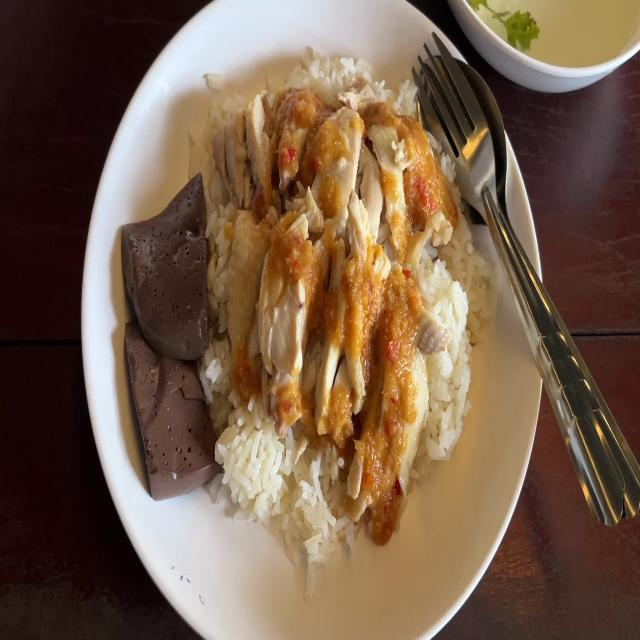chicken_rice: (218, 108, 439, 457)
noodle: (111, 171, 206, 361), (113, 319, 206, 494)
